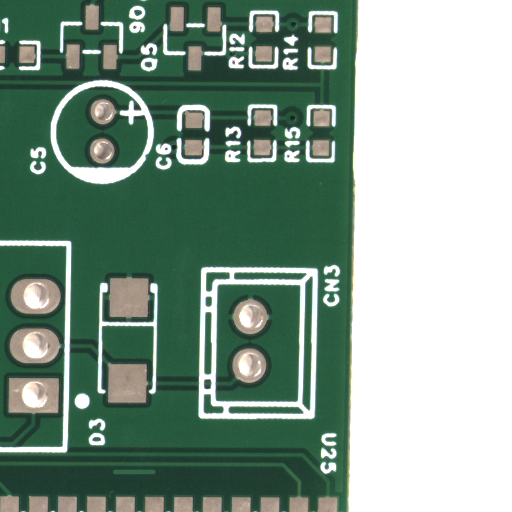Spurious_copper: (134, 472, 178, 480)
